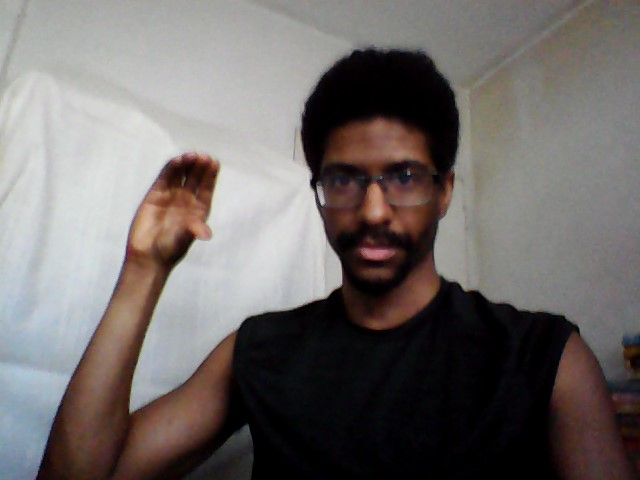c: (124, 147, 222, 268)
